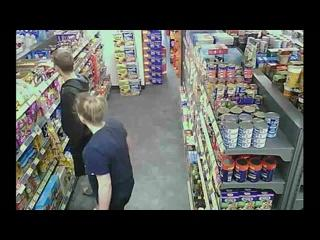shoplifting: (75, 92, 135, 210), (51, 48, 93, 176)
